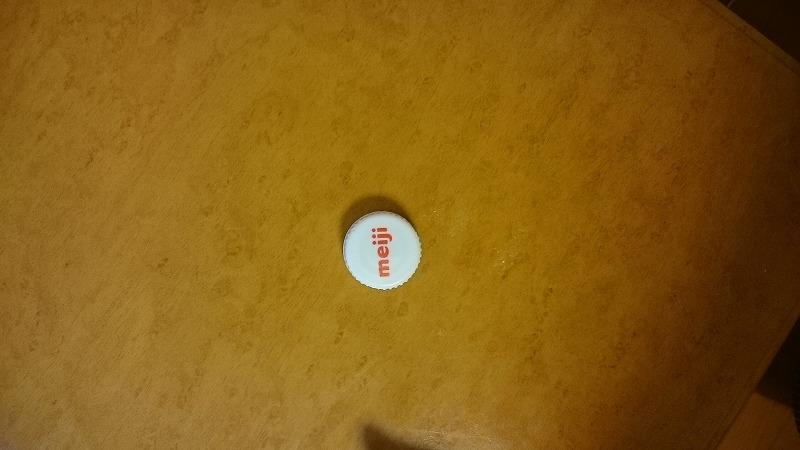B: (336, 205, 427, 302)
